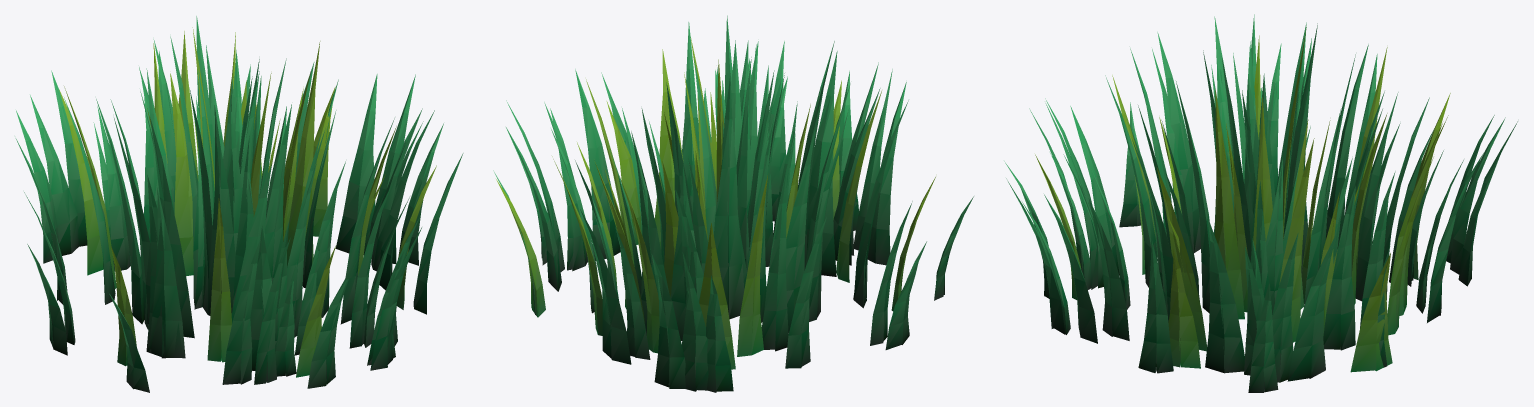
The model's file is vegetasi_grass_emerald_904524.glb.
3 renders of one model, left to right at view 1: azimuth 30°, elevation 25°; view 2: azimuth 150°, elevation 25°; view 3: azimuth 270°, elevation 25°, orthographic. The views are drawn at different scales.
Visible parts, largest first — view 1: Rumpun_Rumput_Liar; view 2: Rumpun_Rumput_Liar; view 3: Rumpun_Rumput_Liar.
Part boxes in pixels (box(x1,y1,x2,y2)): Rumpun_Rumput_Liar: box(15, 16, 463, 392); Rumpun_Rumput_Liar: box(493, 15, 973, 392); Rumpun_Rumput_Liar: box(1004, 14, 1517, 392).
Bounding box in the file's own units: 3.24 × 1.96 × 3.38.
